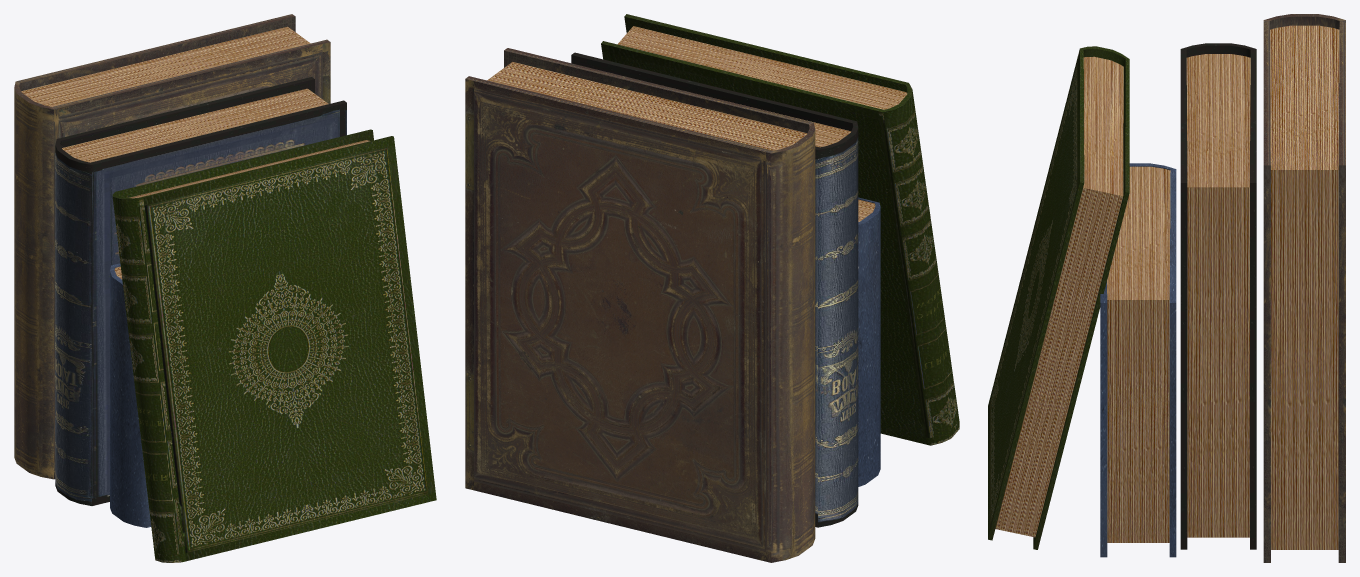
The model's file is 2book.glb.
3 renders of one model, left to right at view 1: azimuth 30°, elevation 25°; view 2: azimuth 150°, elevation 25°; view 3: azimuth 270°, elevation 25°, orthographic. The views are drawn at different scales.
Visible parts, largest first — view 1: Cube.006, Cube.004, Cube.000, Cube.005; view 2: Cube.000, Cube.006, Cube.004, Cube.005; view 3: Cube.000, Cube.004, Cube.006, Cube.005.
Boxes of the visible parts, x1,y1,x2,y2 form: Cube.006: [112, 129, 436, 562]; Cube.004: [55, 77, 346, 505]; Cube.000: [14, 14, 330, 479]; Cube.005: [110, 263, 151, 527]; Cube.000: [465, 48, 815, 562]; Cube.006: [601, 14, 959, 445]; Cube.004: [571, 52, 858, 527]; Cube.005: [858, 197, 880, 486]; Cube.000: [1263, 14, 1345, 562]; Cube.004: [1180, 43, 1256, 549]; Cube.006: [988, 46, 1129, 549]; Cube.005: [1100, 163, 1176, 557].
Size of the model in its own units: 0.3155 by 0.3867 by 0.3154.
5 materials, 5 textured.
